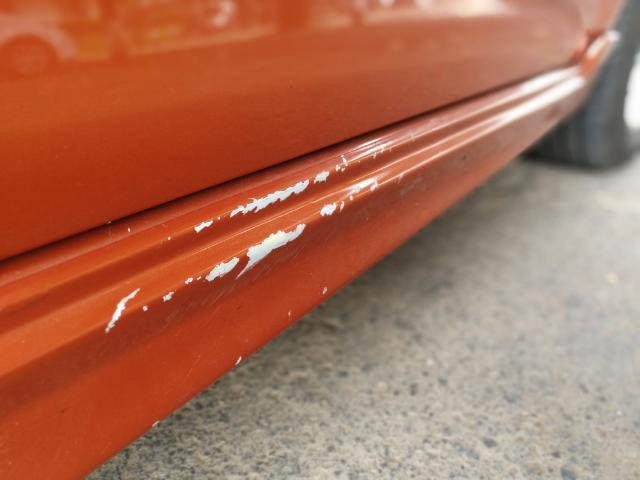scratch: (99, 138, 408, 347)
